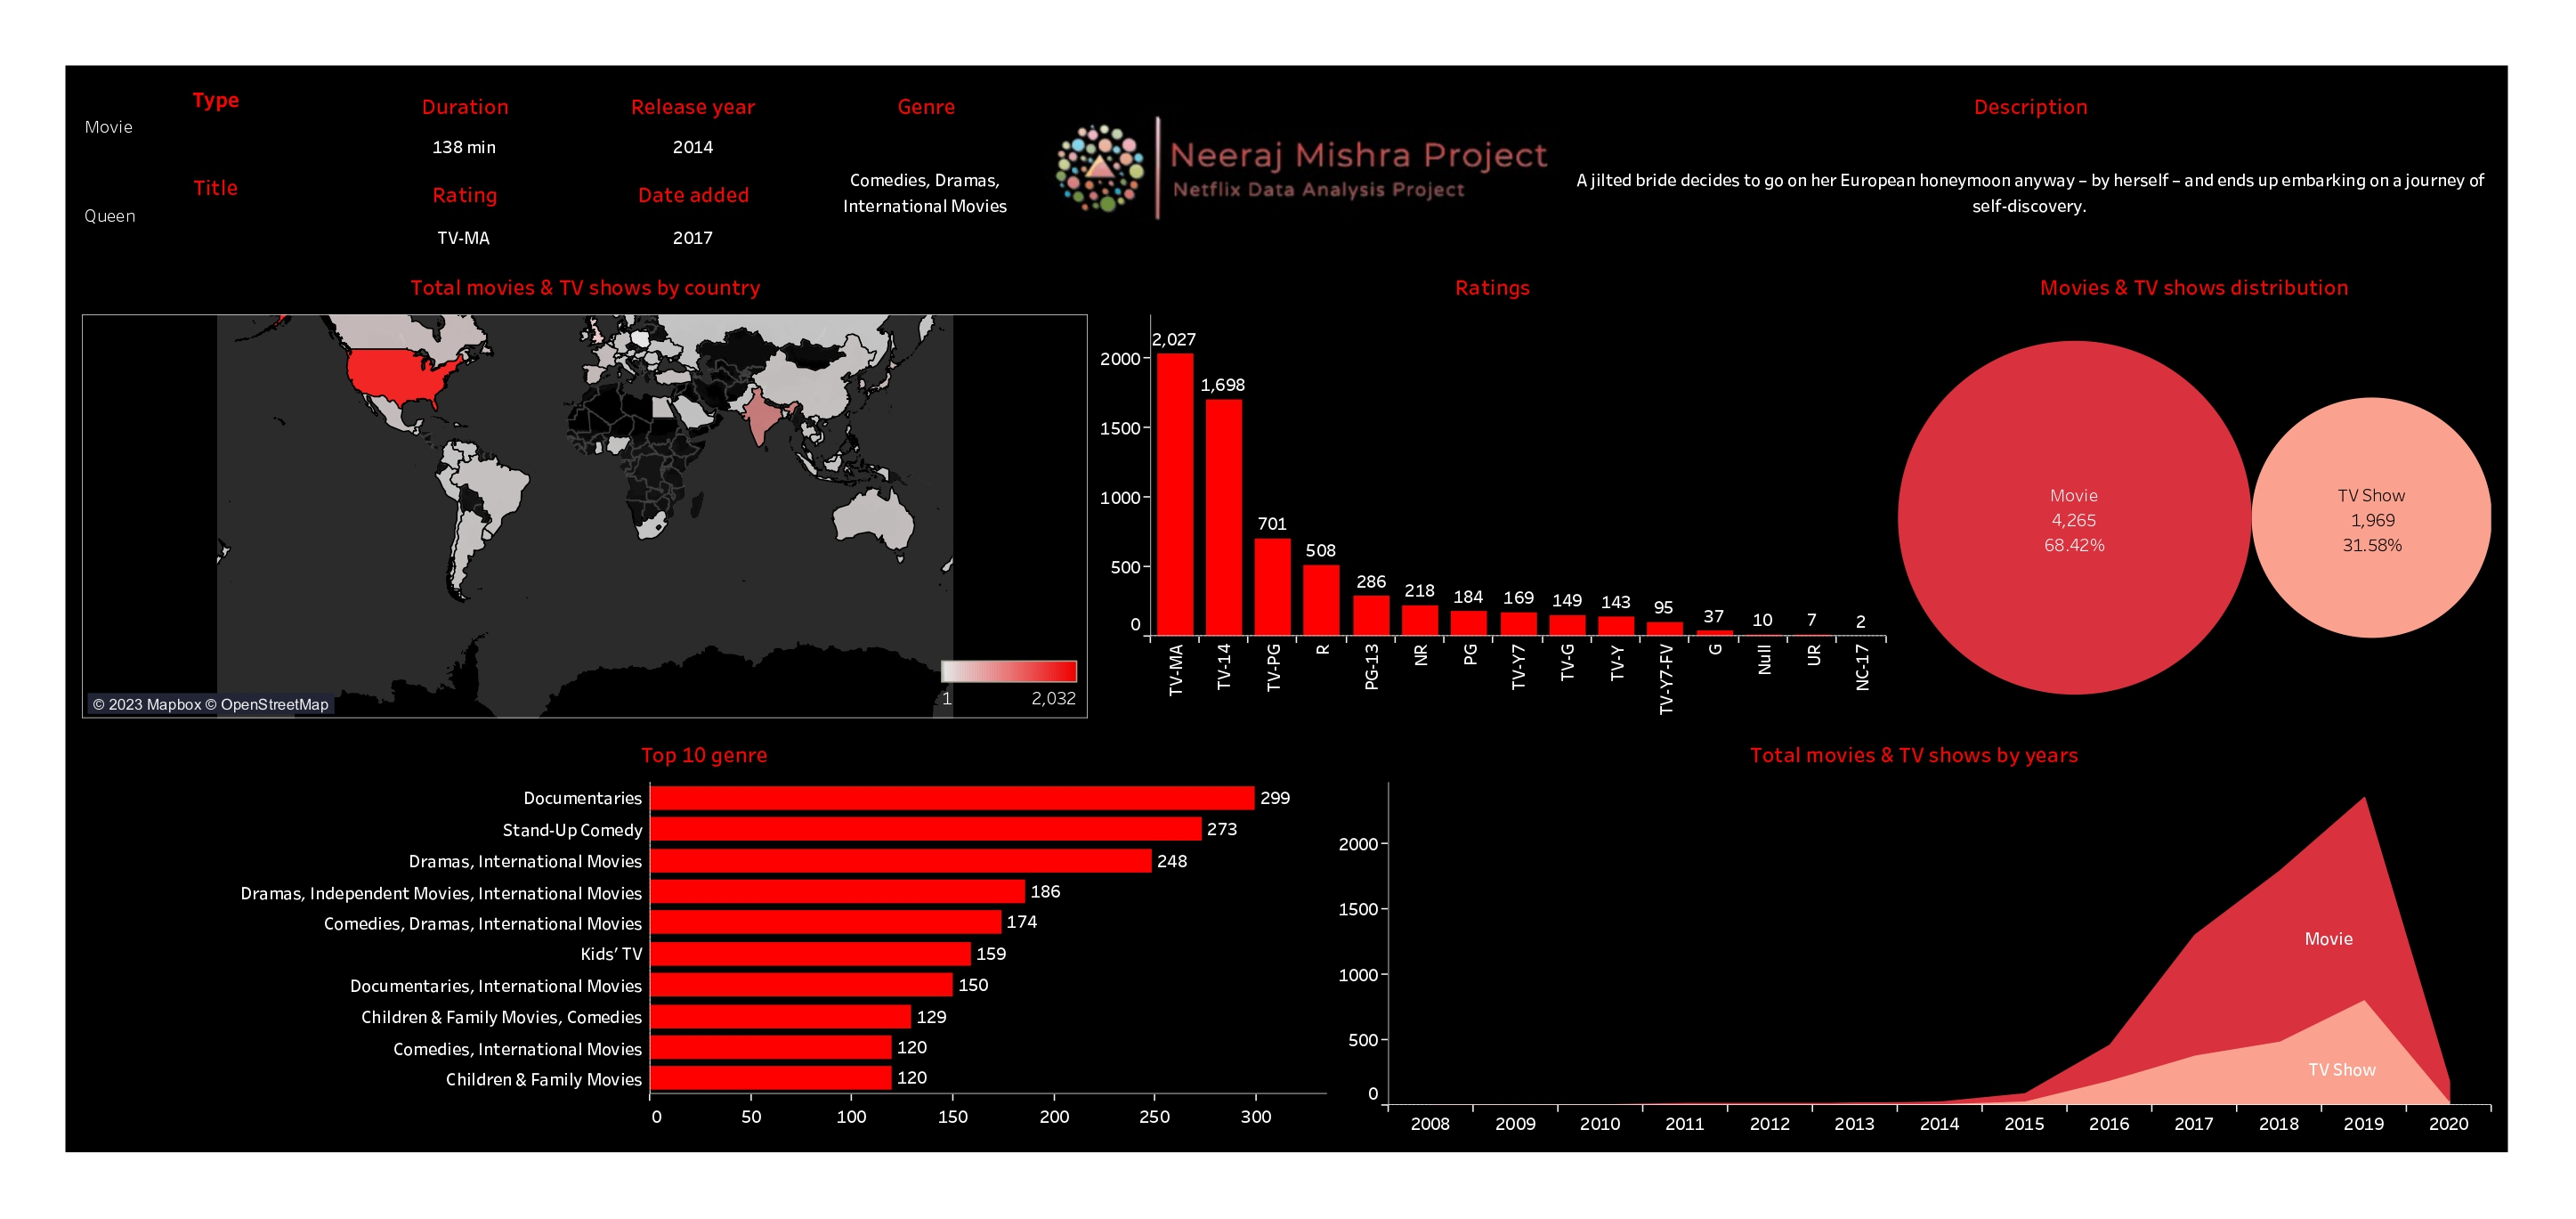

The page's visual inventory and layout, read from the dashboard file:
{"tool":"tableau","page":{"name":"Netflix","canvas":[1000,1000],"units":"permille","ordinal":1},"visuals":[{"type":"filter","title":"Description","param":"[federated.0qd78800c052j012sfp0q04bk8f8].[none:type:nk]","box":[5.1,10.5,113.7,80.8]},{"type":"worksheet","title":"Duration","mark":"Automatic","box":[118.8,10.5,90.4,80.8]},{"type":"worksheet","title":"Release year","mark":"Automatic","box":[209.2,10.5,96.5,80.8]},{"type":"worksheet","title":"genre","mark":"Automatic","box":[305.8,10.5,93.8,166.1]},{"type":"image","param":"Image/logo__1_-removebg-preview.png","box":[399.6,10.5,214.2,166.1]},{"type":"worksheet","title":"Description","mark":"Automatic","box":[613.7,10.5,381.2,166.1]},{"type":"filter","title":"Description","param":"[federated.0qd78800c052j012sfp0q04bk8f8].[none:title:nk]","box":[5.1,91.3,113.7,85.3]},{"type":"worksheet","title":"Rating","mark":"Automatic","box":[118.8,91.3,90.4,85.3]},{"type":"worksheet","title":"Date added","mark":"Automatic","box":[209.2,91.3,96.5,85.3]},{"type":"worksheet","title":"Total movies & TV shows by country","mark":"Multipolygon","box":[5.1,176.6,416.2,429.7]},{"type":"worksheet","title":"Ratings","mark":"Automatic","rows":["show_id"],"cols":["rating"],"box":[421.4,176.6,326.1,429.7]},{"type":"worksheet","title":"Movies & TV shows distribution","mark":"Circle","box":[747.4,176.6,247.5,429.7]},{"type":"legend","title":"Total movies & TV shows by country","param":"[federated.0qd78800c052j012sfp0q04bk8f8].[ctd:show_id:qk]","box":[356.7,543.3,60,52.2]},{"type":"worksheet","title":"Top 10 genre","mark":"Automatic","rows":["listed_in"],"cols":["show_id"],"box":[5.1,606.3,513.8,383.2]},{"type":"worksheet","title":"Total movies & TV shows by years","mark":"Area","rows":["show_id"],"cols":["date_added"],"box":[518.9,606.3,476,383.2]}]}

Visuals, with their boxes on the dashboard's canvas, which has no fixed pixel size, in thousandths of its width and height (x1, y1, x2, y2). These are canvas units, not pixel positions in the 2576x1219 screenshot, which may show the page scaled, cropped or inside an application window:
"Description" filter: l=5, t=10, r=119, b=91
"Duration" worksheet: l=119, t=10, r=209, b=91
"Release year" worksheet: l=209, t=10, r=306, b=91
"genre" worksheet: l=306, t=10, r=400, b=177
image: l=400, t=10, r=614, b=177
"Description" worksheet: l=614, t=10, r=995, b=177
"Description" filter: l=5, t=91, r=119, b=177
"Rating" worksheet: l=119, t=91, r=209, b=177
"Date added" worksheet: l=209, t=91, r=306, b=177
"Total movies & TV shows by country" worksheet (Multipolygon marks): l=5, t=177, r=421, b=606
"Ratings" worksheet: l=421, t=177, r=748, b=606
"Movies & TV shows distribution" worksheet (Circle marks): l=747, t=177, r=995, b=606
"Total movies & TV shows by country" legend: l=357, t=543, r=417, b=596
"Top 10 genre" worksheet: l=5, t=606, r=519, b=990
"Total movies & TV shows by years" worksheet (Area marks): l=519, t=606, r=995, b=990
